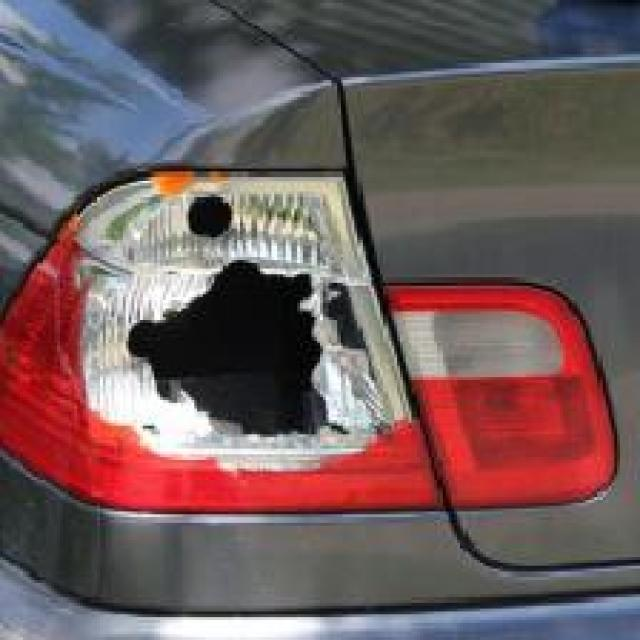tail_lamp_moderate: (83, 174, 386, 477)
